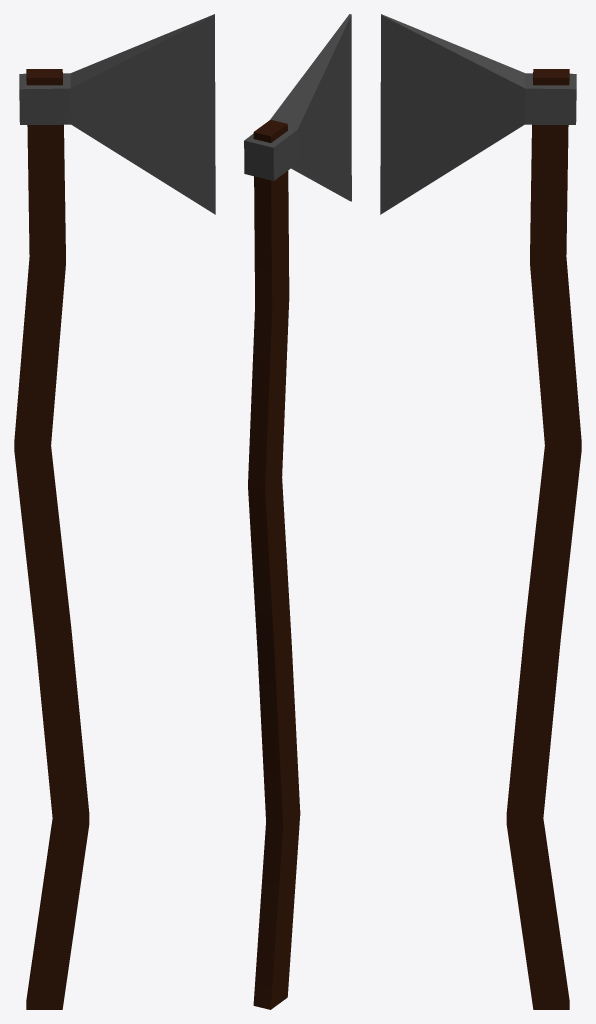
Rendered from AxeLowPoly.FBX.
3 views of the same model, side by side, from view 1: azimuth 90°, elevation 25°; view 2: azimuth 150°, elevation 25°; view 3: azimuth 270°, elevation 25° (orthographic). The views are drawn at different scales.
Parts seen in each view (by area): view 1: Hache; view 2: Hache; view 3: Hache.
Boxes of the visible parts, x1,y1,x2,y2 form: Hache: [14, 14, 215, 1009]; Hache: [244, 14, 351, 1009]; Hache: [380, 14, 581, 1009].
Size of the model in its own units: 1.34 by 40.13 by 7.39.
